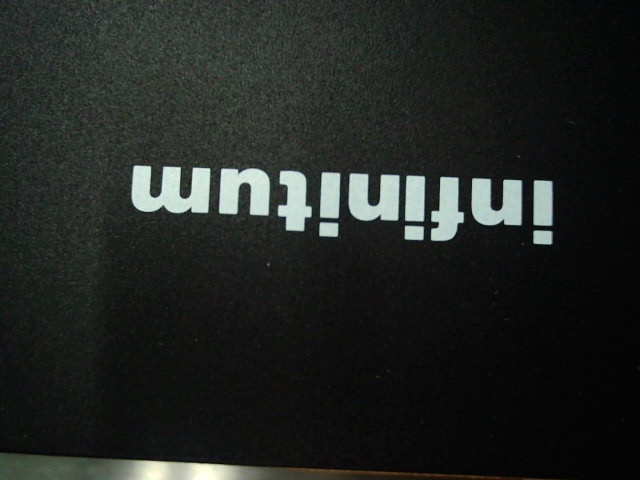BK_infinitum: (111, 136, 570, 259)
